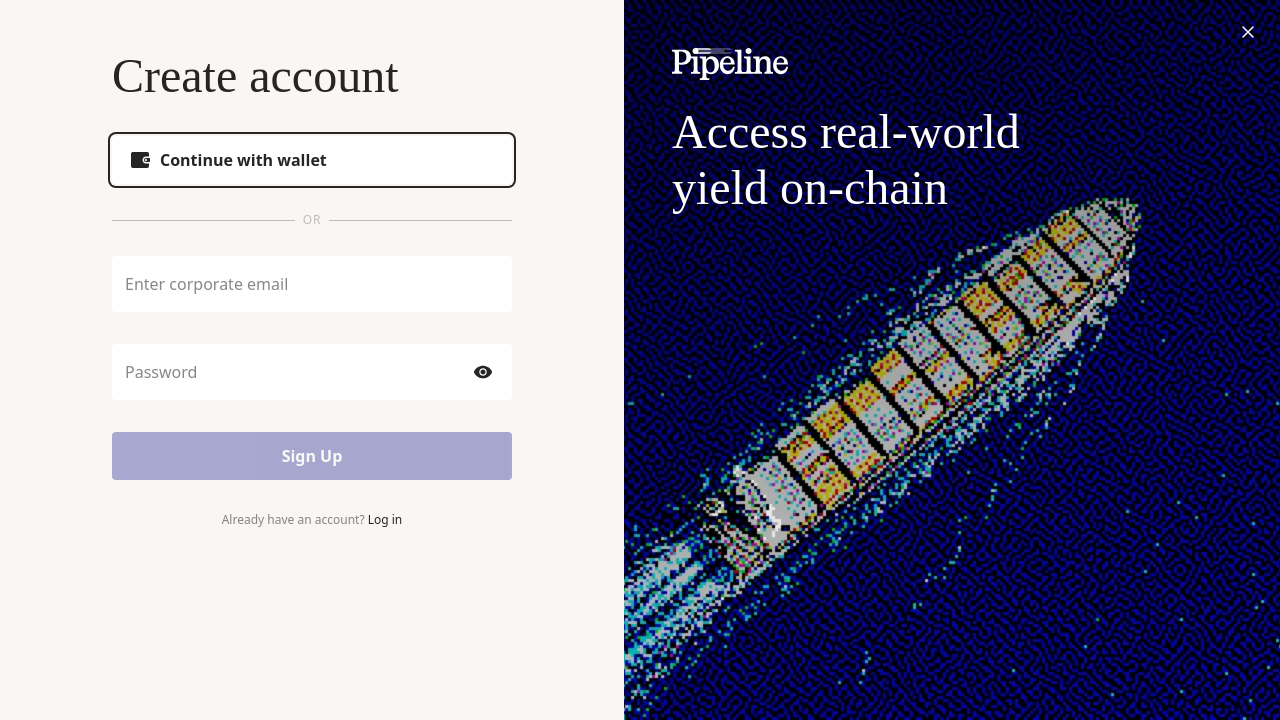
Test: CreateAccountModal (#1249) › submit is enabled once both fields are non-empty and email is well-formed
Type "lp@example.com" into the field with placeholder "Enter corporate email". click: point(312, 284)
box: [125, 273, 499, 295]
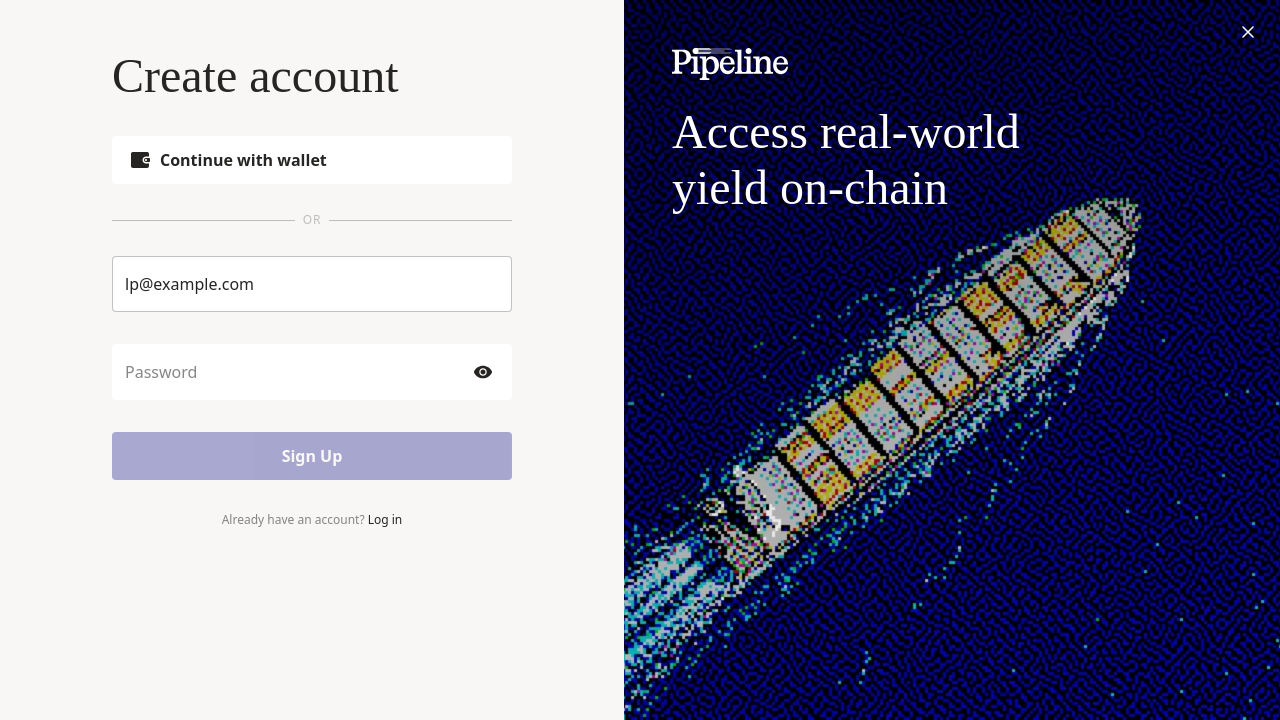
Type "P@ssw0rd!" into the password field with placeholder "Password". click: point(294, 372)
box: [125, 361, 463, 383]
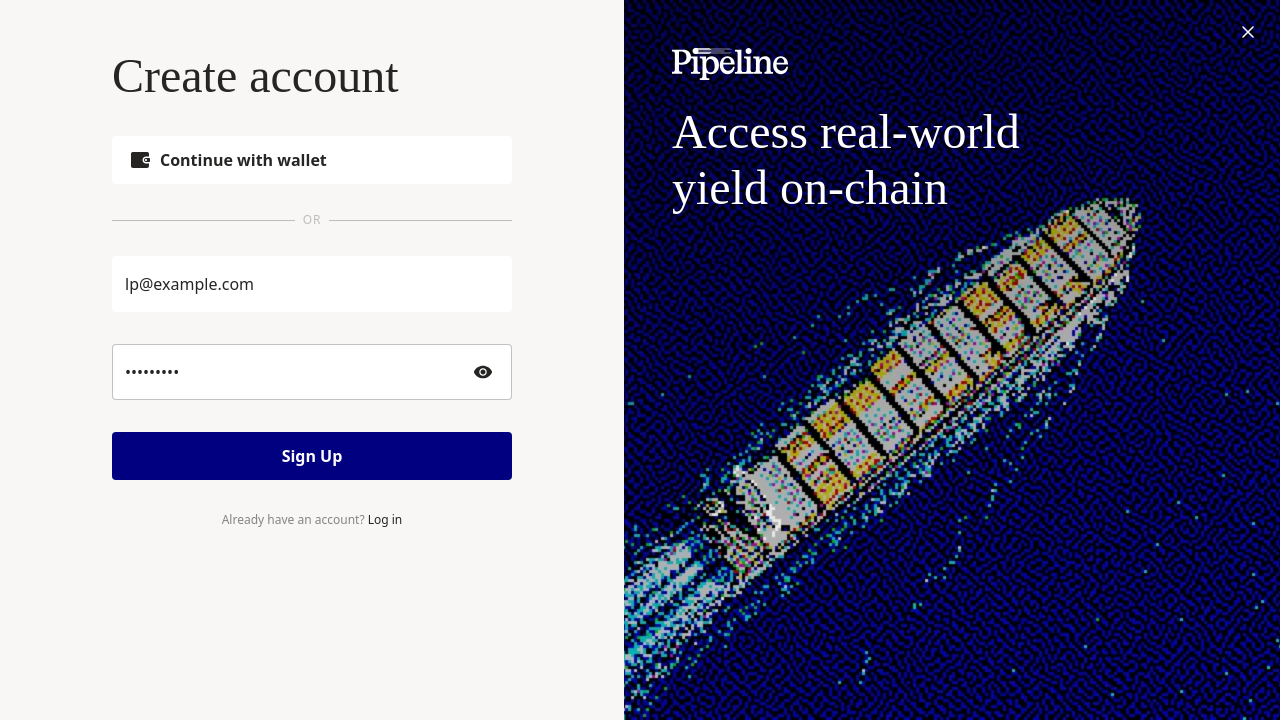
Check: the button "Sign Up" is enabled, box [112, 432, 512, 480]
